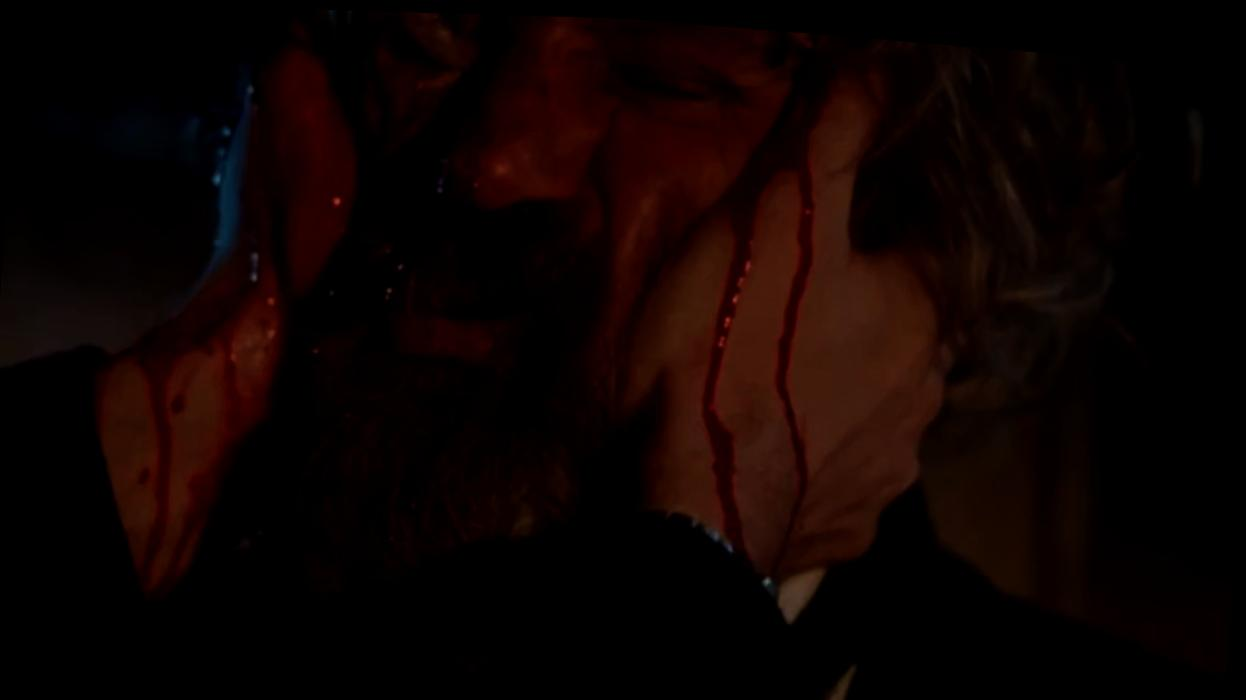Fire: (131, 7, 358, 586), (701, 66, 826, 551), (372, 46, 418, 157), (443, 110, 489, 194)
